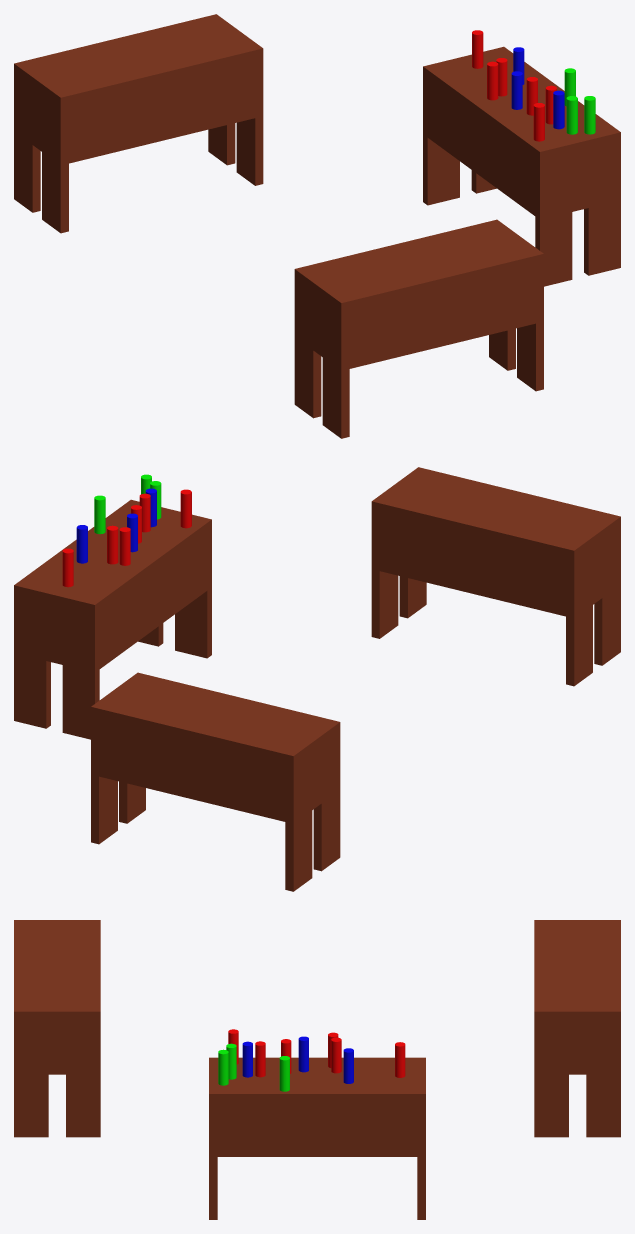
File: sort_clutter_3.dae
The picture shows the model from 3 angles, top to bottom: view 1: azimuth 30°, elevation 25°; view 2: azimuth 150°, elevation 25°; view 3: azimuth 270°, elevation 25°; orthographic projection. The views are drawn at different scales.
Parts seen in each view (by area): view 1: base (×14); view 2: base (×14); view 3: base (×9).
Part boxes in pixels (box(x1,y1,x2,y2)): base (×14): box(14, 14, 620, 438); base (×14): box(14, 467, 620, 891); base (×9): box(14, 920, 620, 1219).
Bounding box in the file's own units: 2.38 × 3.5 × 1.
